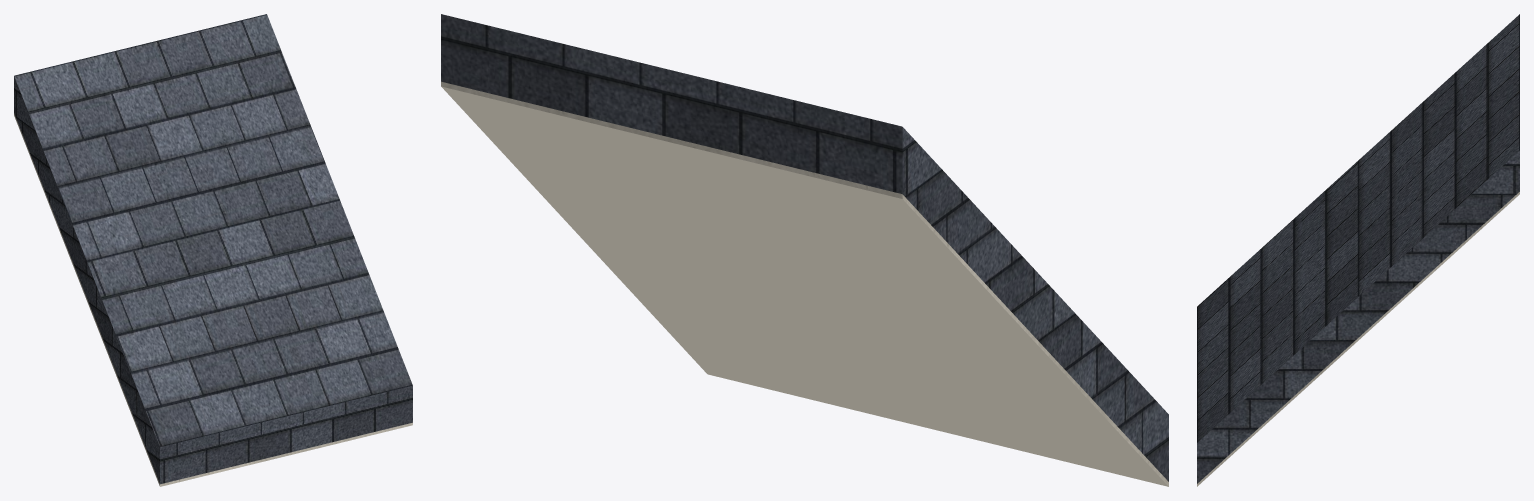
File: roof_valley_g.glb
3 renders of one model, left to right at view 1: azimuth 30°, elevation 25°; view 2: azimuth 150°, elevation 25°; view 3: azimuth 270°, elevation 25°, orthographic. The views are drawn at different scales.
Parts seen in each view (by area): view 1: roof_valley_g_shingle_g, roof_valley_g_plaster; view 2: roof_valley_g_plaster, roof_valley_g_shingle_g; view 3: roof_valley_g_shingle_g, roof_valley_g_plaster.
Part boxes in pixels (box(x1,y1,x2,y2)): roof_valley_g_shingle_g: box(14, 14, 412, 484); roof_valley_g_plaster: box(14, 113, 412, 486); roof_valley_g_plaster: box(441, 81, 1168, 486); roof_valley_g_shingle_g: box(441, 14, 1168, 481); roof_valley_g_shingle_g: box(1197, 14, 1519, 483); roof_valley_g_plaster: box(1197, 192, 1519, 486).
Size of the model in its own units: 2 by 2.3 by 2.
2 materials, 2 textured.
